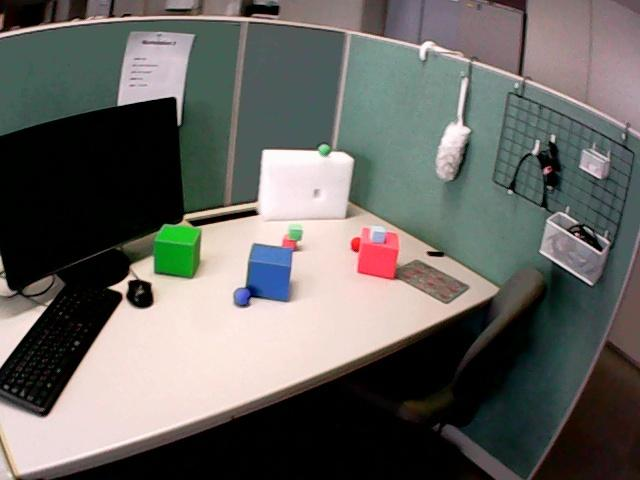blue_block: (246, 244, 292, 300), (370, 226, 386, 243)
red_block: (357, 227, 398, 278), (282, 234, 296, 250)
